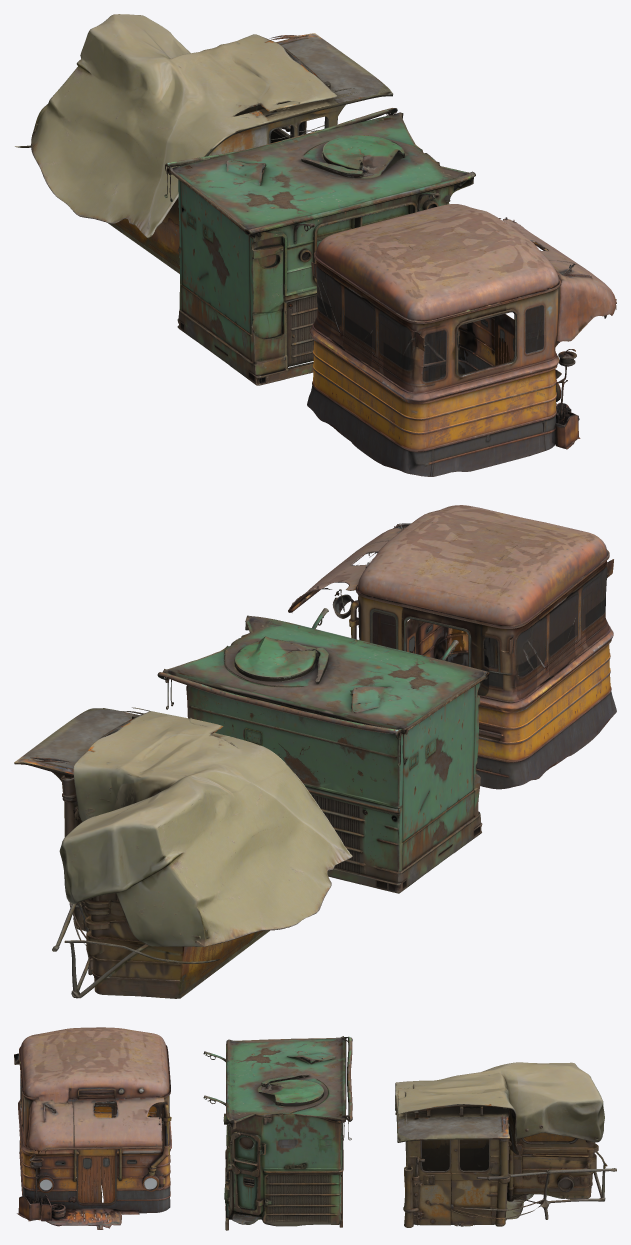
The model's file is All.fbx.
3 renders of one model, top to bottom at view 1: azimuth 30°, elevation 25°; view 2: azimuth 150°, elevation 25°; view 3: azimuth 270°, elevation 25°, orthographic. The views are drawn at different scales.
Visible parts, largest first — view 1: b2, b3, b1; view 2: b3, b1, b2; view 3: b3, b2, b1.
Part boxes in pixels (bbox=[...]): b2: bbox=[307, 204, 616, 476]; b3: bbox=[15, 14, 393, 273]; b1: bbox=[164, 108, 475, 385]; b3: bbox=[14, 707, 352, 998]; b1: bbox=[157, 608, 489, 893]; b2: bbox=[288, 505, 616, 789]; b3: bbox=[395, 1062, 616, 1227]; b2: bbox=[14, 1027, 171, 1229]; b1: bbox=[203, 1036, 352, 1230].
Size of the model in its own units: 196 by 144 by 530.
3 materials, 3 textured.
